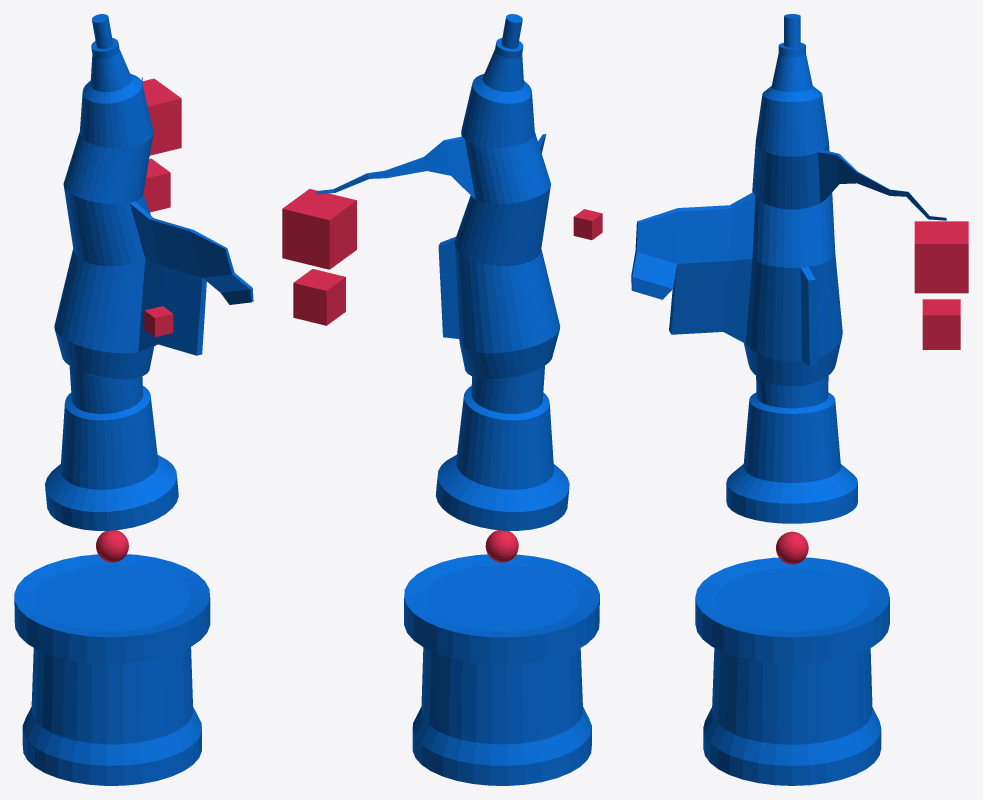
Rendered from tree.fbx.
3 renders of one model, left to right at view 1: azimuth 30°, elevation 25°; view 2: azimuth 150°, elevation 25°; view 3: azimuth 270°, elevation 25°, orthographic.
Visible parts, largest first — view 1: TreePillar; view 2: TreePillar; view 3: TreePillar.
Boxes of the visible parts, <box> form: TreePillar: <box>14,14,253,785</box>; TreePillar: <box>282,14,602,785</box>; TreePillar: <box>631,14,968,785</box>.
Size of the model in its own units: 67.54 by 219 by 92.25.
